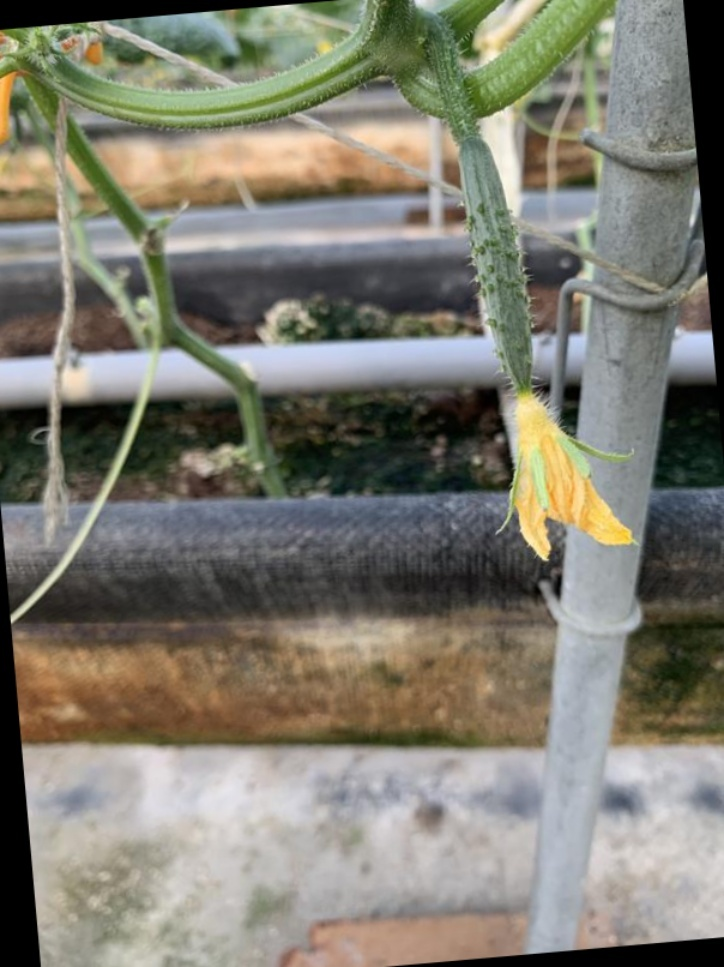bear: (433, 126, 632, 560)
